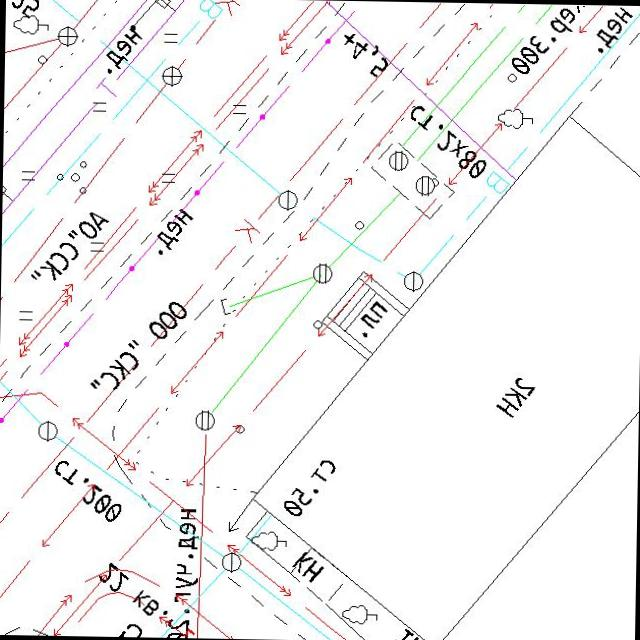tree: (496, 107, 534, 130), (250, 529, 288, 552), (12, 13, 49, 36)
well: (341, 602, 378, 626), (158, 64, 184, 88), (36, 418, 60, 443), (56, 24, 80, 48), (192, 408, 216, 432), (402, 268, 424, 294), (387, 148, 410, 172), (276, 188, 299, 212), (311, 261, 334, 285), (220, 550, 243, 574), (414, 174, 436, 196)
